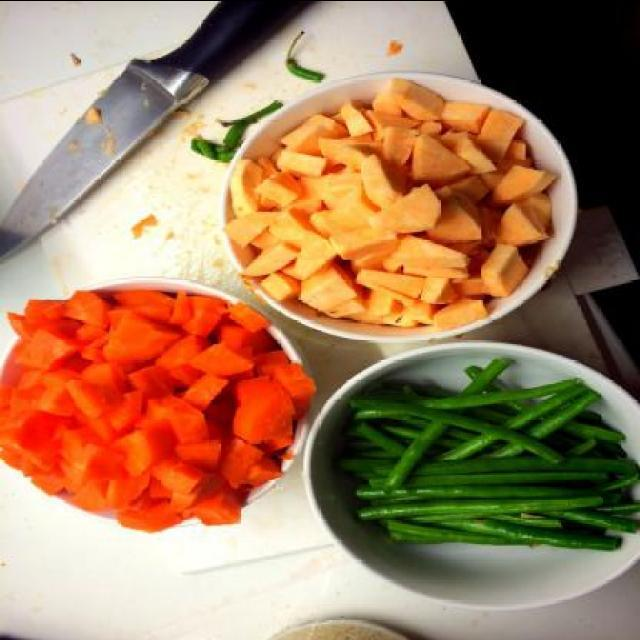Carrot: (1, 286, 324, 534), (218, 380, 296, 448)
